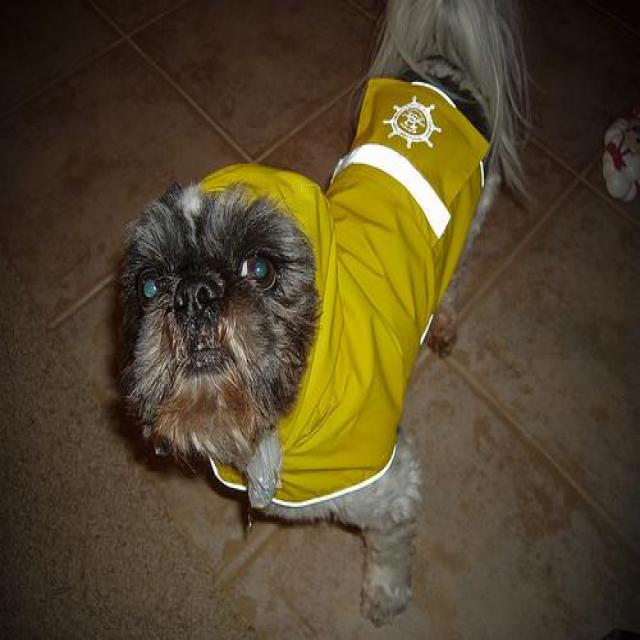shih_tzu: (108, 0, 531, 628)
